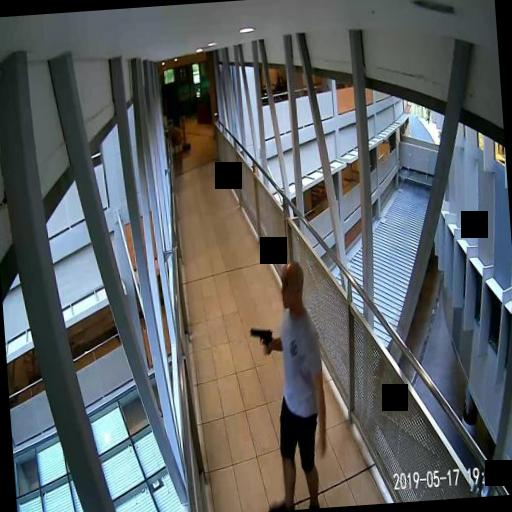Handgun: (248, 326, 272, 356)
